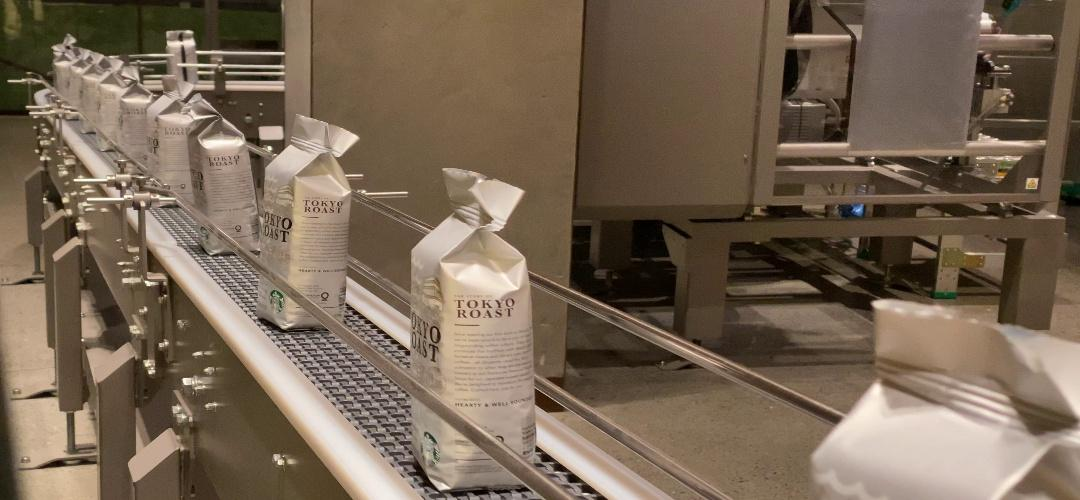conveyor: (410, 246, 534, 364), (263, 166, 350, 261), (188, 144, 258, 206)
